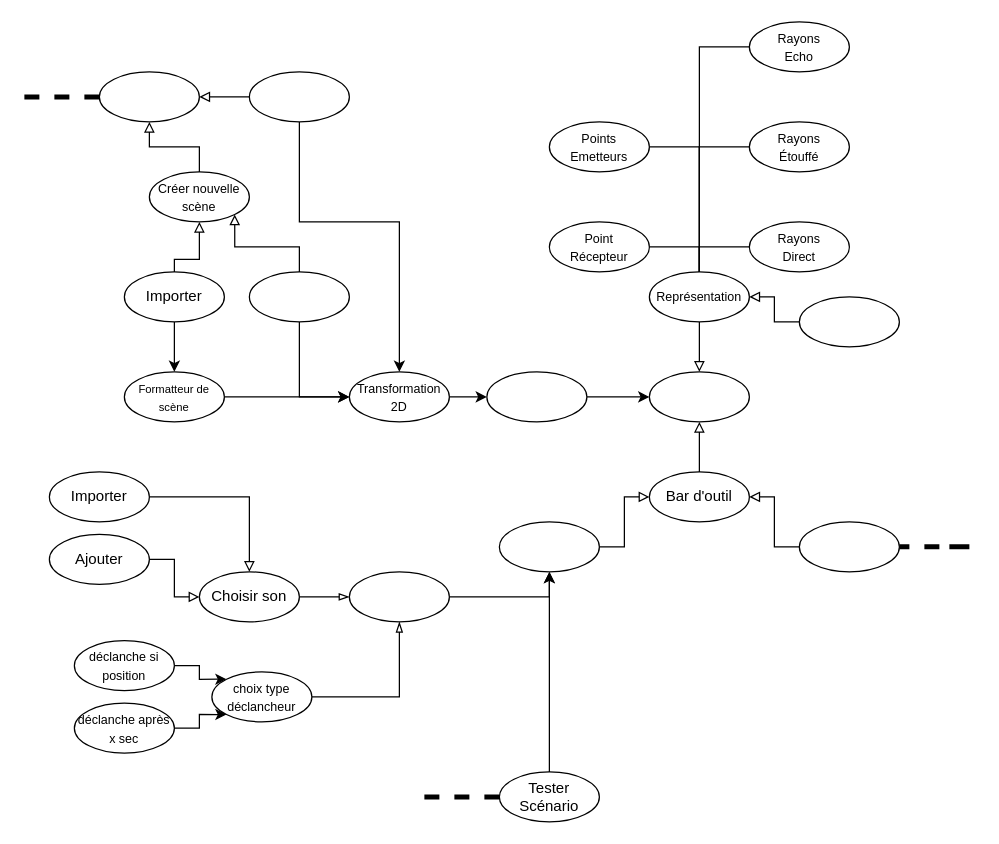
This 999x844 diagram has some shape labels left out. Each missing label, with the centre of its shape:
"Ajouter déclancheur" goes at (x=398, y=596).
"Choix Scène" goes at (x=298, y=96).
"Dev Mode" goes at (x=148, y=96).
"Gestionnaire de scène" goes at (x=536, y=396).
"Interface Dev" goes at (x=698, y=396).
"Paramètre son" goes at (x=848, y=546).
"Scène defaut" goes at (x=298, y=296).
"Scénario" goes at (x=548, y=546).
"Sélection de la hauteur" goes at (x=848, y=321).
